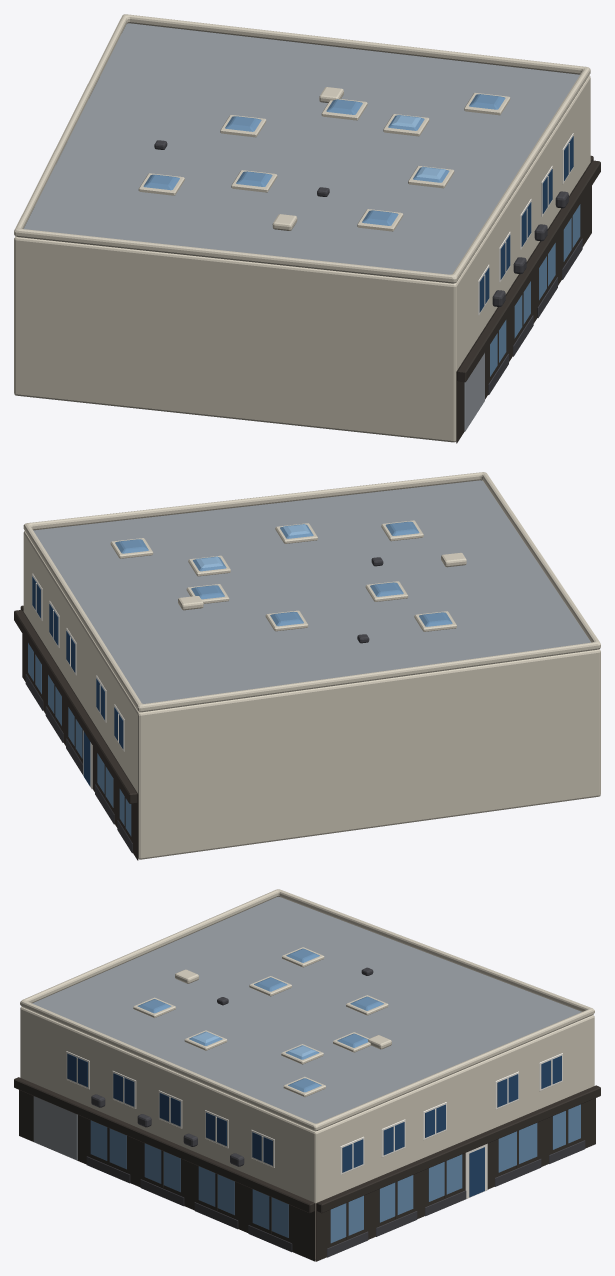
Rendered from 592-third.glb.
3 views of the same model, one above another, from view 1: azimuth 30°, elevation 25°; view 2: azimuth 150°, elevation 25°; view 3: azimuth 270°, elevation 25° (orthographic). The views are drawn at different scales.
Visible parts, largest first — view 1: body, parapet, fascia2, band2, garage, bbay3_glow, bbay1_glow; view 2: body, parapet, fascia3, band3, tcafe_glow; view 3: body, parapet, band2, band3, fascia2, fascia3, garage, tcafe_glow, bbay3_glow, bbay0_glow, bbay1_glow, bbay2_glow (+15 smaller).
Part boxes in pixels (<box>): body: <box>14,23,590,442</box>; parapet: <box>14,14,590,283</box>; fascia2: <box>457,160,600,382</box>; band2: <box>456,161,591,443</box>; garage: <box>464,353,484,431</box>; bbay3_glow: <box>563,204,580,261</box>; bbay1_glow: <box>514,281,530,338</box>; body: <box>23,480,600,859</box>; parapet: <box>23,472,600,712</box>; fascia3: <box>14,610,137,803</box>; band3: <box>22,610,138,860</box>; tcafe_glow: <box>97,753,113,807</box>; body: <box>20,897,594,1259</box>; parapet: <box>20,889,594,1131</box>; band2: <box>19,1090,315,1261</box>; band3: <box>316,1098,595,1261</box>; fascia2: <box>14,1077,314,1213</box>; fascia3: <box>317,1085,600,1213</box>; garage: <box>33,1096,77,1160</box>; tcafe_glow: <box>498,1123,537,1172</box>; bbay3_glow: <box>252,1189,288,1237</box>; bbay0_glow: <box>90,1120,126,1169</box>; bbay1_glow: <box>144,1143,180,1191</box>; bbay2_glow: <box>198,1166,234,1214</box>.
Bounding box in the file's own units: 31.21 × 8.2 × 32.21.
